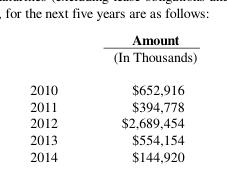table: (29, 29, 196, 164)
table column: (84, 29, 196, 164), (29, 29, 84, 164)
table column header: (29, 29, 196, 72)
table row: (29, 29, 196, 72), (29, 72, 196, 97), (29, 113, 196, 130), (29, 130, 196, 147), (29, 147, 196, 164), (29, 97, 196, 113)
